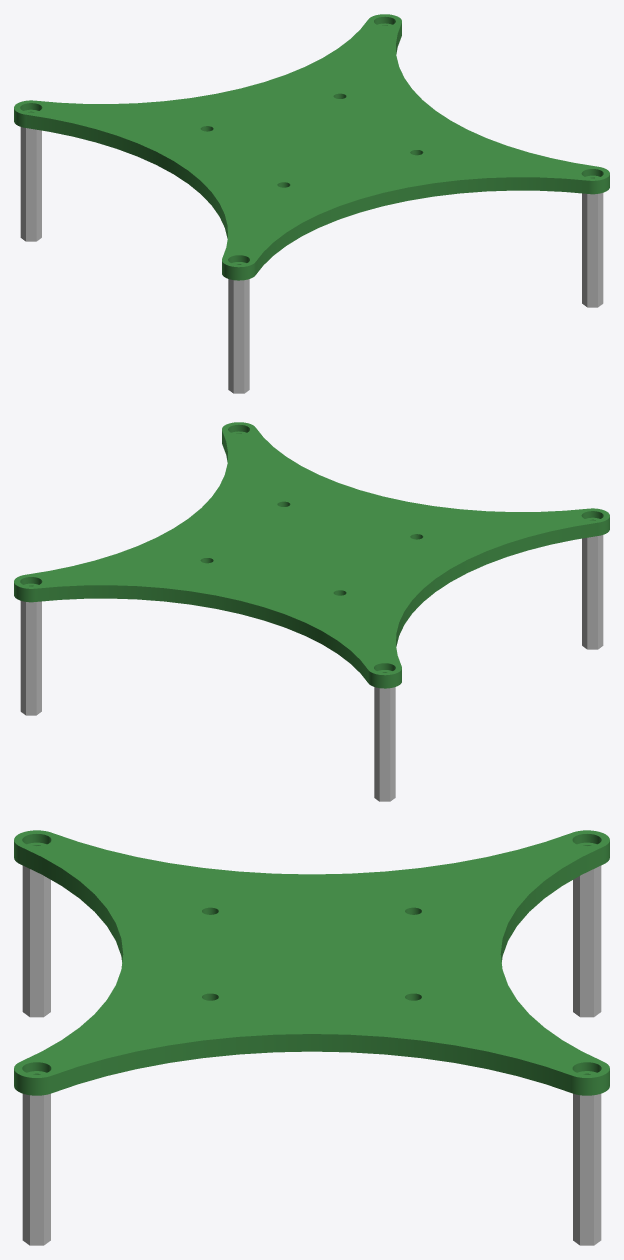
Rendered from holybro_x500_rplidar_mount.dae.
3 views of the same model, one above another, from view 1: azimuth 30°, elevation 25°; view 2: azimuth 150°, elevation 25°; view 3: azimuth 270°, elevation 25° (orthographic). The views are drawn at different scales.
Parts seen in each view (by area): view 1: RPlidarFBXASC032mount; view 2: RPlidarFBXASC032mount; view 3: RPlidarFBXASC032mount.
Boxes of the visible parts, box(x1,y1,x2,y2) form: RPlidarFBXASC032mount: box(14, 14, 609, 393); RPlidarFBXASC032mount: box(14, 422, 609, 801); RPlidarFBXASC032mount: box(14, 830, 609, 1245).
Bounding box in the file's own units: 0.1204 × 0.1224 × 0.039.
